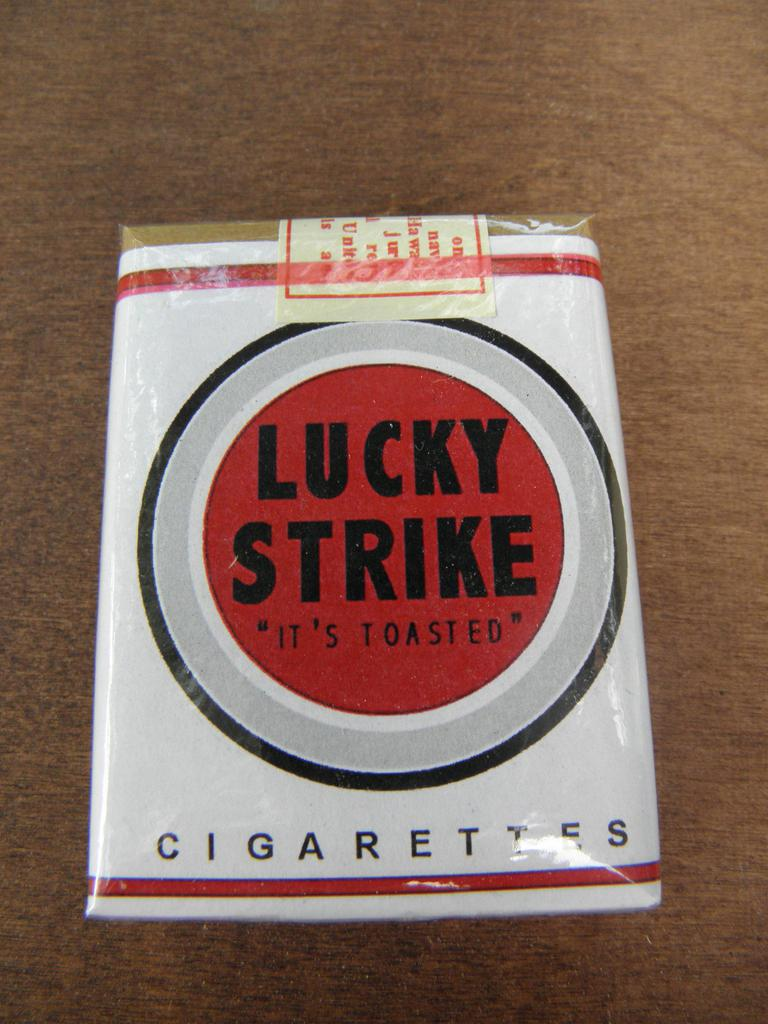lucky_strike_red: (105, 227, 614, 907)
